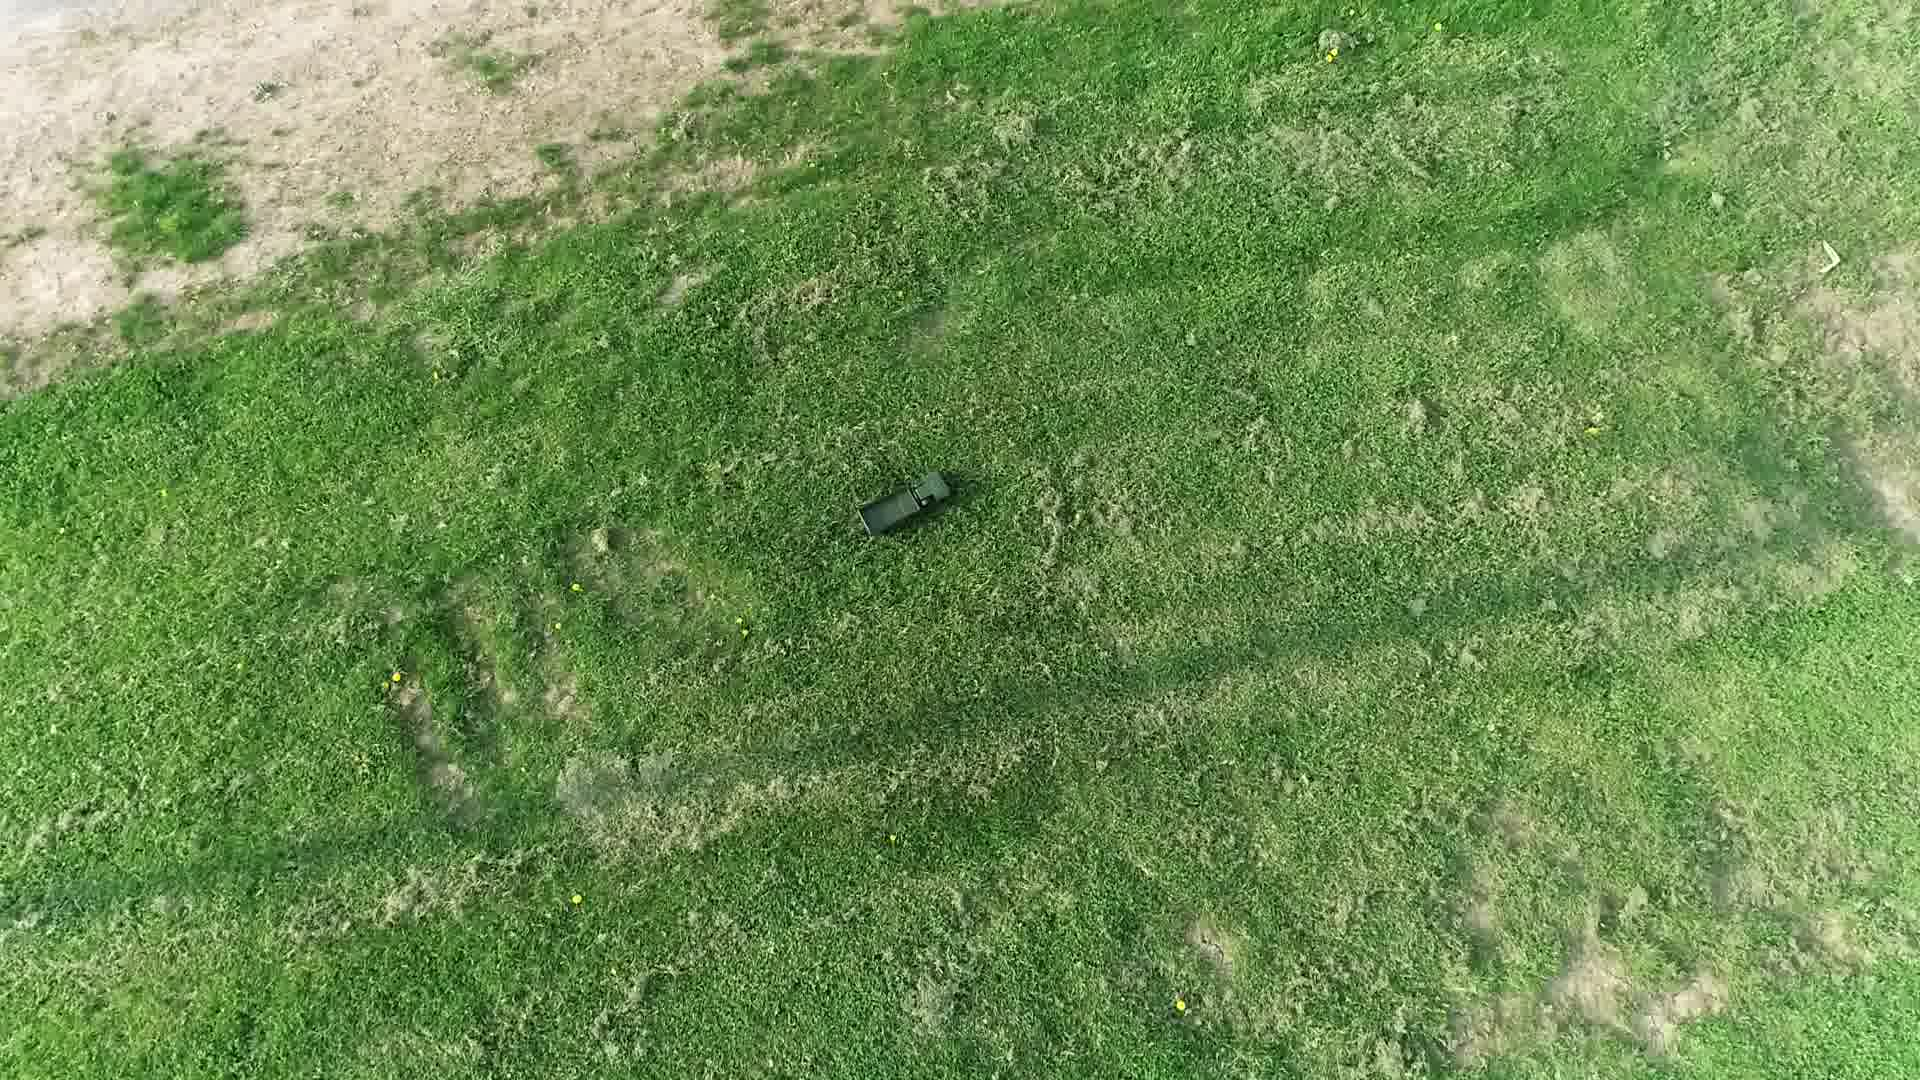transporter9: (852, 464, 960, 554)
